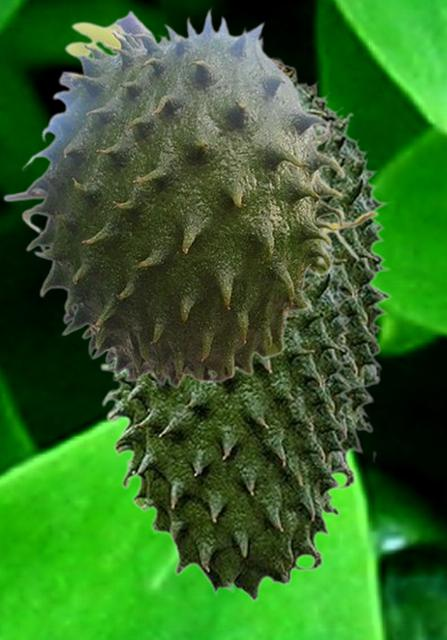guyabano: (2, 6, 379, 389), (96, 244, 358, 601), (269, 53, 392, 493)
